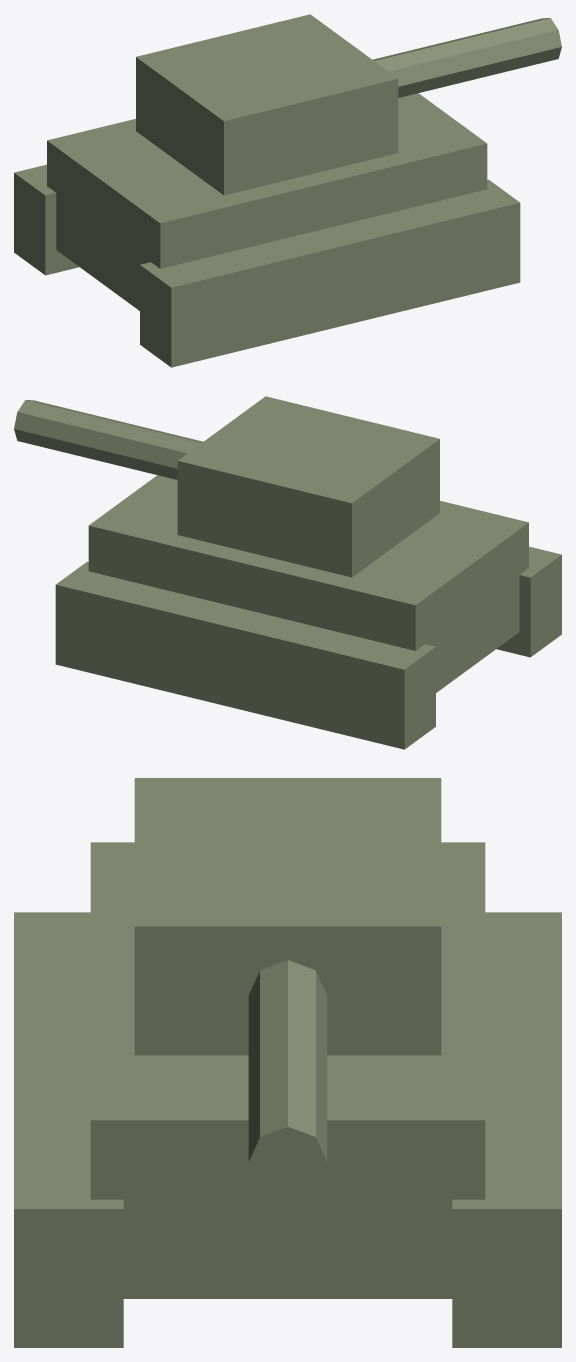
3 renders of one model, top to bottom at view 1: azimuth 30°, elevation 25°; view 2: azimuth 150°, elevation 25°; view 3: azimuth 270°, elevation 25°, orthographic. The views are drawn at different scales.
Visible parts, largest first — view 1: part0, part4, part1, part2, part3; view 2: part0, part3, part1, part2, part4; view 3: part0, part1, part3, part4, part2.
Boxes of the visible parts, box(x1,y1,x2,y2) form: part0: box(47, 93, 487, 310); part4: box(140, 179, 520, 367); part1: box(136, 14, 398, 195); part2: box(373, 18, 561, 97); part3: box(14, 164, 79, 275); part0: box(88, 475, 528, 692); part3: box(55, 561, 435, 749); part1: box(177, 396, 439, 577); part2: box(14, 400, 202, 479); part4: box(496, 546, 561, 657); part0: box(90, 842, 485, 1298); part1: box(134, 778, 441, 1055); part3: box(452, 912, 561, 1347); part4: box(14, 912, 123, 1347); part2: box(248, 960, 327, 1197).
Size of the model in its own units: 4.2 by 1.75 by 2.5.
